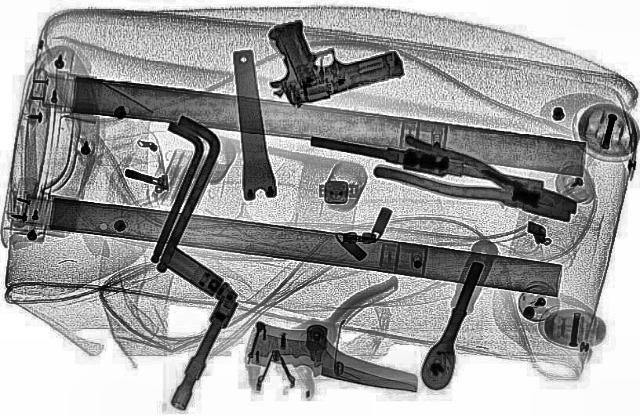Gun: (226, 3, 414, 109)
Pliers: (368, 132, 596, 226)
